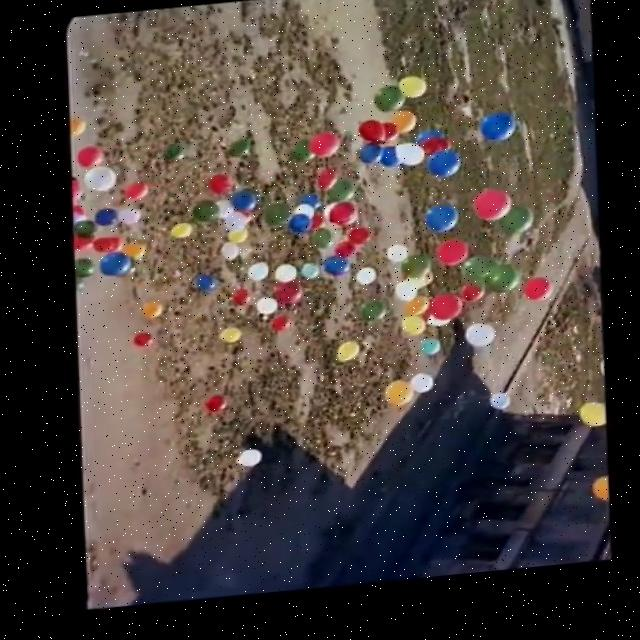balloon: (477, 120, 516, 152), (471, 201, 506, 231), (456, 267, 491, 297), (429, 212, 458, 244), (504, 217, 533, 246), (438, 247, 464, 277), (575, 411, 602, 439), (70, 217, 91, 253), (100, 254, 128, 280), (287, 146, 316, 171), (398, 301, 426, 326), (421, 136, 445, 165), (77, 146, 102, 172), (431, 304, 458, 328), (432, 164, 461, 186), (87, 170, 112, 195), (311, 139, 336, 163), (491, 275, 512, 303), (359, 127, 383, 151), (403, 265, 430, 286), (406, 380, 431, 402), (389, 119, 415, 140), (192, 207, 219, 227), (525, 285, 546, 310), (389, 389, 410, 414), (374, 98, 400, 118), (327, 214, 353, 234), (403, 85, 426, 107), (586, 487, 605, 513), (232, 454, 259, 472), (399, 155, 421, 177), (468, 334, 491, 355), (125, 183, 146, 206), (263, 210, 287, 230), (90, 238, 119, 254), (261, 213, 283, 234), (393, 286, 415, 307), (336, 347, 355, 371), (332, 189, 356, 208), (278, 288, 299, 309), (231, 198, 254, 217), (74, 257, 89, 286), (357, 151, 377, 172), (485, 402, 508, 420), (116, 213, 145, 227), (319, 267, 345, 282), (401, 322, 419, 343), (381, 155, 397, 178), (203, 400, 226, 416), (65, 184, 81, 207), (216, 204, 233, 225), (289, 222, 305, 244), (270, 270, 292, 286), (118, 248, 141, 263), (357, 271, 376, 289), (460, 294, 481, 310), (419, 347, 437, 365), (312, 177, 330, 195), (309, 236, 327, 254), (134, 336, 153, 352), (246, 268, 262, 287), (231, 147, 251, 162), (253, 303, 269, 321), (218, 334, 236, 350), (230, 295, 248, 311), (226, 220, 244, 236), (294, 200, 316, 213), (210, 183, 229, 198), (292, 212, 311, 227), (71, 118, 86, 137), (171, 229, 191, 243), (388, 252, 404, 269), (428, 323, 446, 338), (330, 249, 349, 263), (297, 271, 313, 287), (383, 131, 398, 148), (194, 282, 212, 295), (227, 237, 247, 248), (95, 213, 111, 226), (270, 323, 285, 336), (351, 237, 368, 248), (144, 307, 158, 320), (223, 250, 233, 267)
